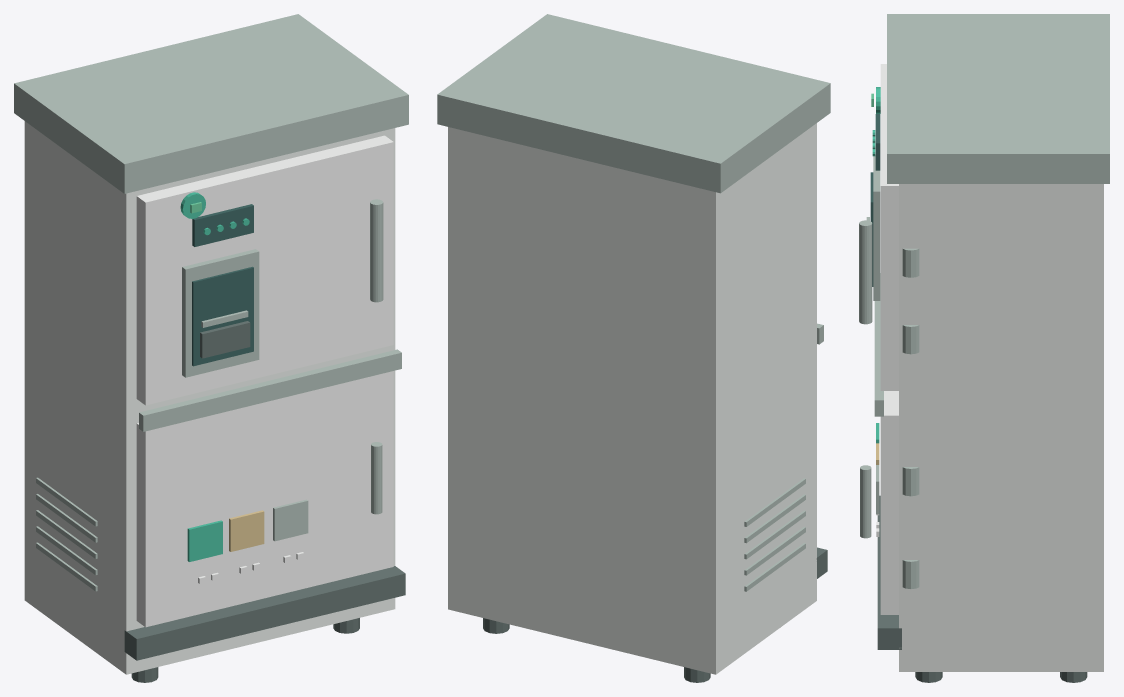
Rendered from vineat-smart-fridge.glb.
The picture shows the model from 3 angles, left to right: view 1: azimuth 30°, elevation 25°; view 2: azimuth 150°, elevation 25°; view 3: azimuth 270°, elevation 25°; orthographic projection.
Parts seen in each view (by area): view 1: ViNeat Smart Fridge; view 2: ViNeat Smart Fridge; view 3: ViNeat Smart Fridge.
Part boxes in pixels (bbox=[...]): ViNeat Smart Fridge: bbox=[14, 14, 408, 682]; ViNeat Smart Fridge: bbox=[437, 14, 830, 682]; ViNeat Smart Fridge: bbox=[859, 14, 1109, 682].
Bounding box in the file's own units: 1.11 × 1.99 × 0.832.
